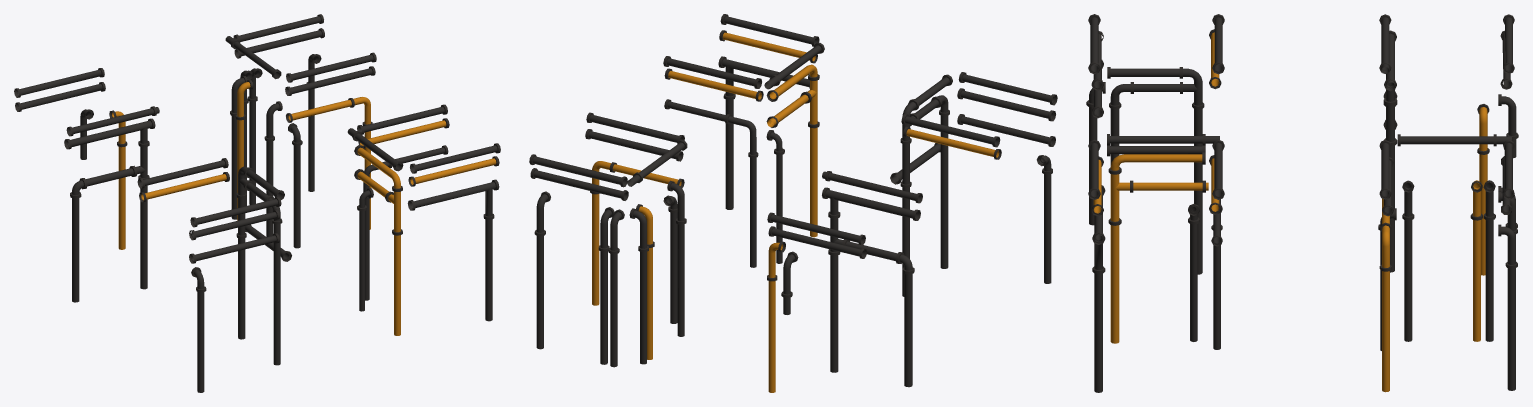
File: SM_H_Building_Tide_WaterControl_02g_ATLAS.fbx
3 views of the same model, side by side, from view 1: azimuth 30°, elevation 25°; view 2: azimuth 150°, elevation 25°; view 3: azimuth 270°, elevation 25° (orthographic). The views are drawn at different scales.
Parts seen in each view (by area): view 1: SM_H_Building_Tide_WaterControl_02g_ATLAS; view 2: SM_H_Building_Tide_WaterControl_02g_ATLAS; view 3: SM_H_Building_Tide_WaterControl_02g_ATLAS.
Part boxes in pixels (box(x1,y1,x2,y2)): SM_H_Building_Tide_WaterControl_02g_ATLAS: box(14, 14, 500, 392); SM_H_Building_Tide_WaterControl_02g_ATLAS: box(529, 14, 1057, 392); SM_H_Building_Tide_WaterControl_02g_ATLAS: box(1086, 14, 1518, 392).
Bounding box in the file's own units: 2473 × 2581 × 1406.
